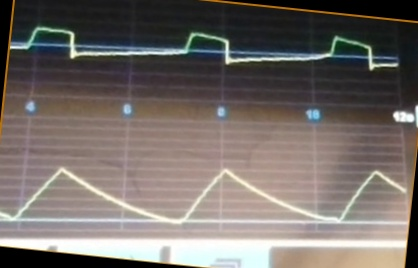Normal Flow: (12, 17, 398, 86)
Normal Volume: (1, 151, 405, 227)
